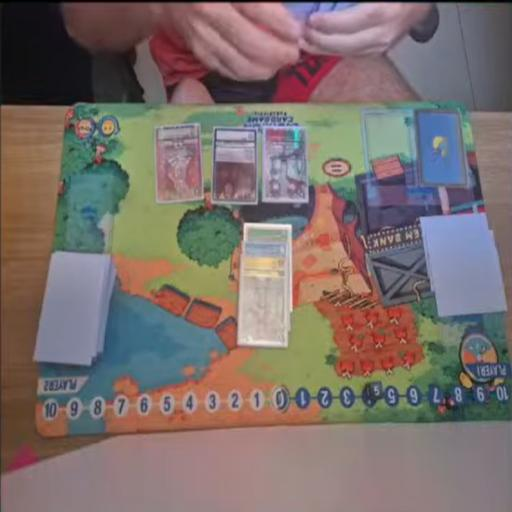card: (237, 253, 291, 346), (211, 126, 261, 210), (154, 122, 203, 204), (261, 127, 308, 208), (240, 238, 290, 258), (244, 223, 293, 243)
